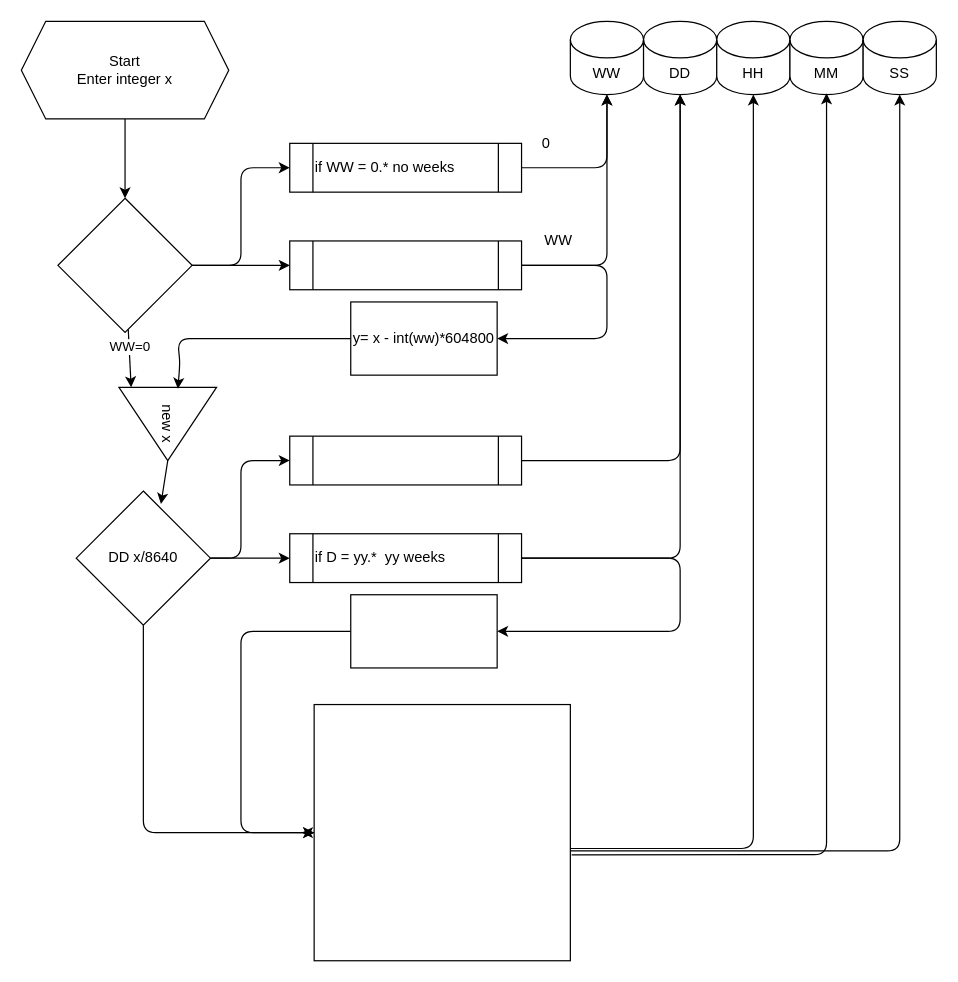
This 958x982 diagram has some shape labels left out. Here are the shapes that lost their labels. From the top down, the centre of each, then its label:
the point at 124,264: WW= x/604800
the point at 405,265: if WW = yy.* yy weeks
the point at 405,460: if DD = 0.* no days
the point at 423,631: y= x - int(dd)*8640
the point at 441,832: for HH 3600 for MM 60 for SS Float of MM
